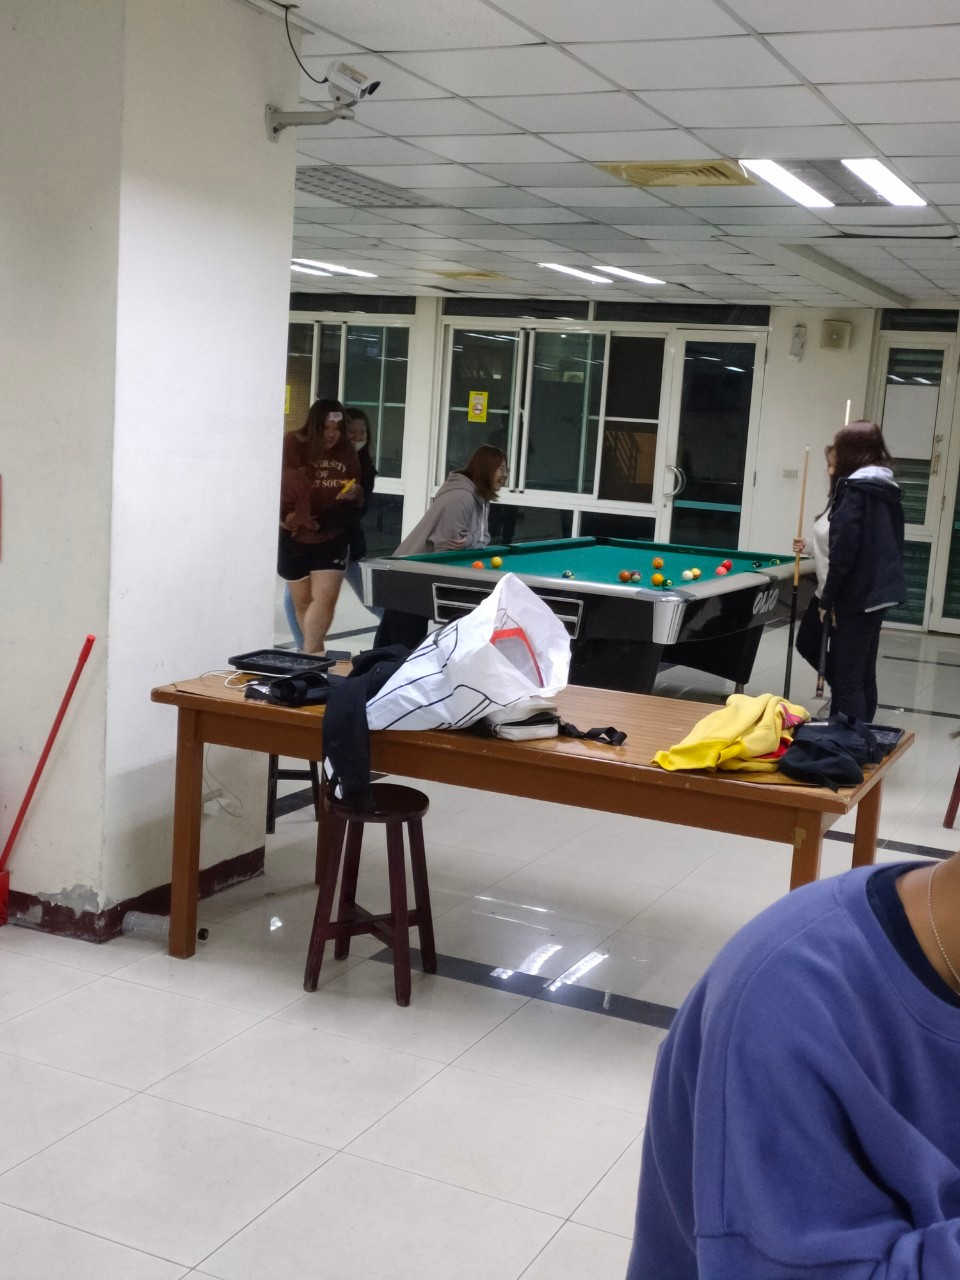people: (638, 729, 960, 1280), (827, 421, 905, 741), (276, 396, 344, 659), (793, 439, 840, 721), (332, 408, 383, 649), (430, 449, 507, 576)
